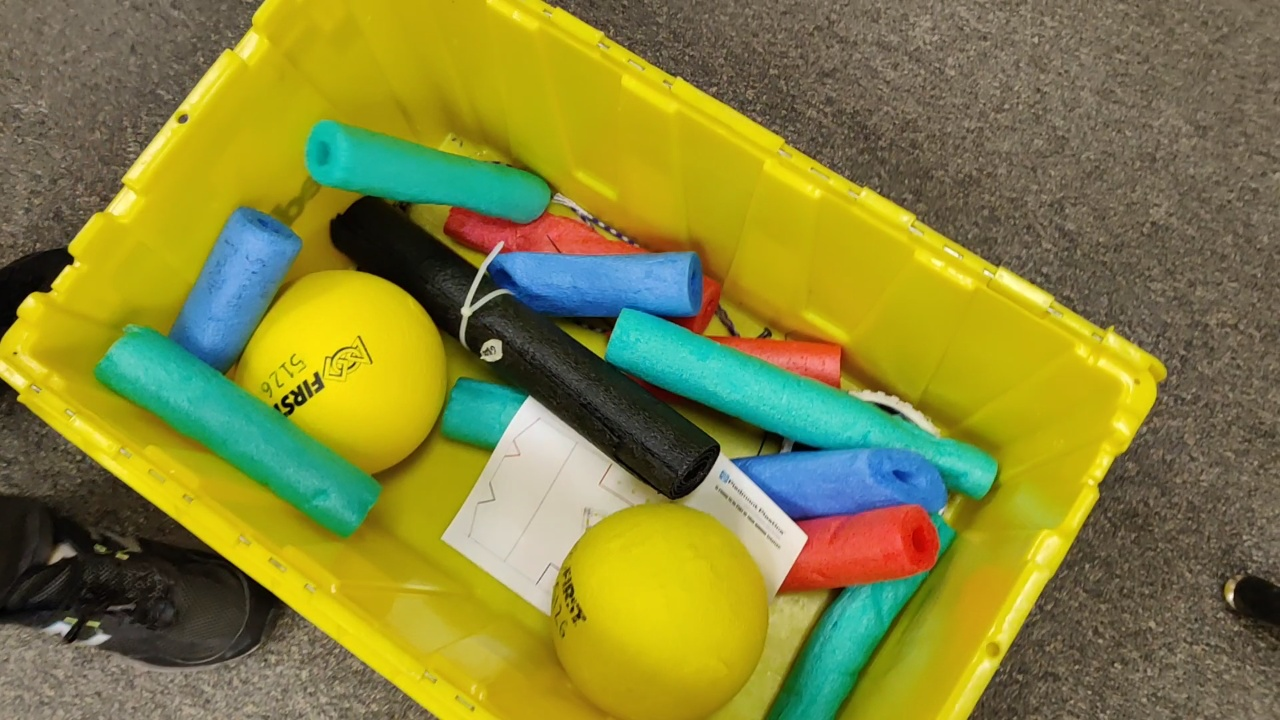Ball: (549, 504, 772, 720), (234, 269, 445, 474)
